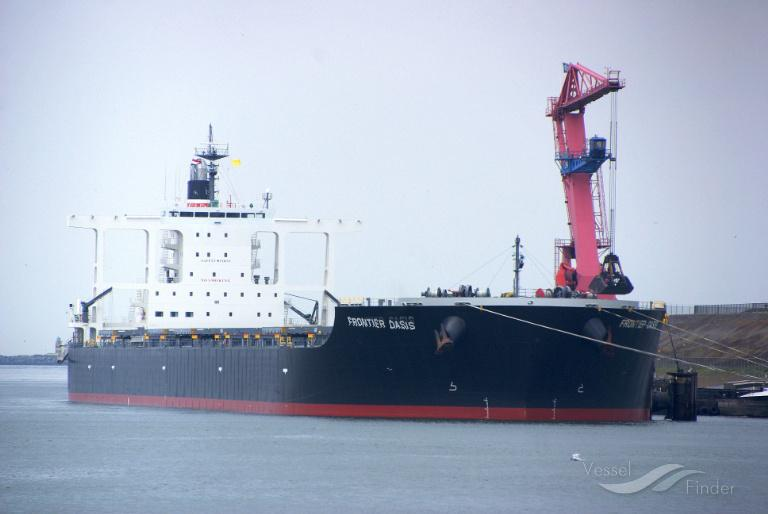OCR: (343, 312, 422, 340)
